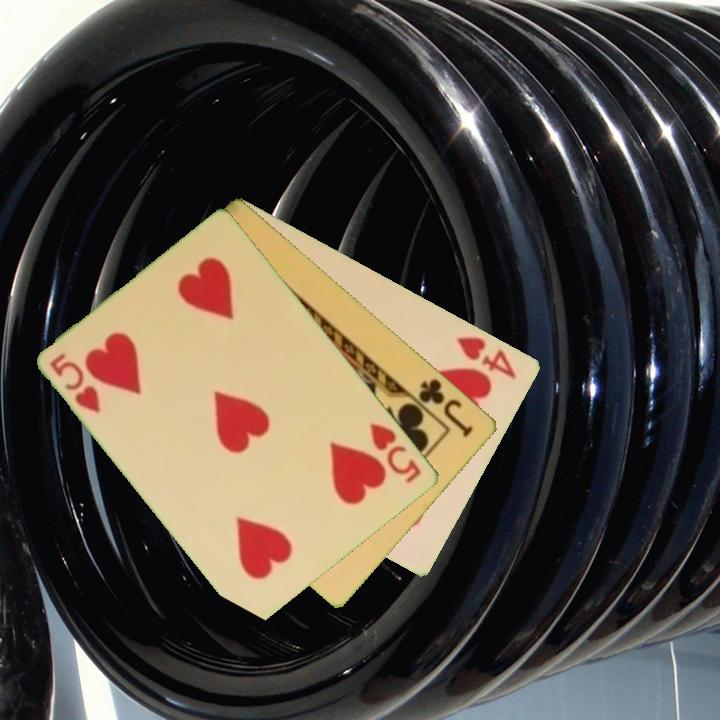4h: (453, 332, 520, 382)
5h: (366, 419, 425, 487), (47, 349, 104, 417)
Jc: (415, 375, 477, 441)
